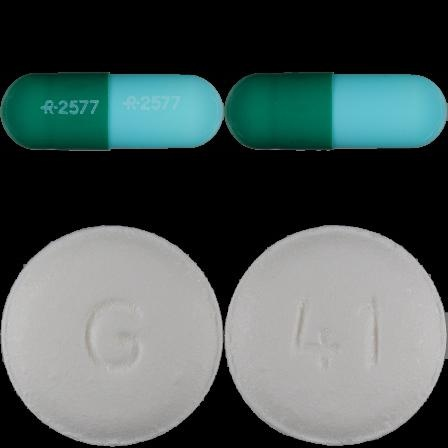33261-847: (0, 0, 224, 224)
